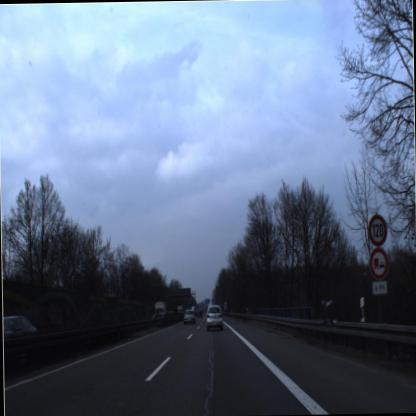prohibitory: (365, 245, 391, 284), (366, 210, 388, 249)
